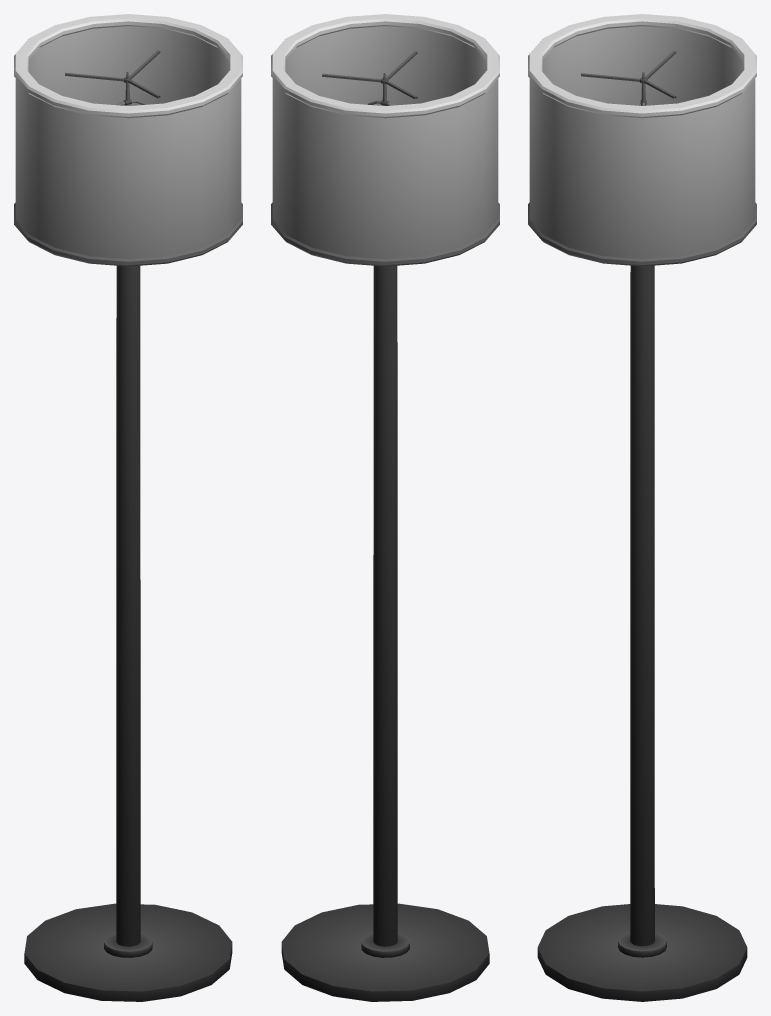
File: Lamp_04.fbx
3 views of the same model, side by side, from view 1: azimuth 30°, elevation 25°; view 2: azimuth 150°, elevation 25°; view 3: azimuth 270°, elevation 25° (orthographic).
Visible parts, largest first — view 1: lamp_4; view 2: lamp_4; view 3: lamp_4.
Boxes of the visible parts, x1,y1,x2,y2 form: lamp_4: [14, 14, 242, 1001]; lamp_4: [271, 14, 499, 1001]; lamp_4: [528, 14, 756, 1001].
Bounding box in the file's own units: 0.3428 × 1.46 × 0.3376.
